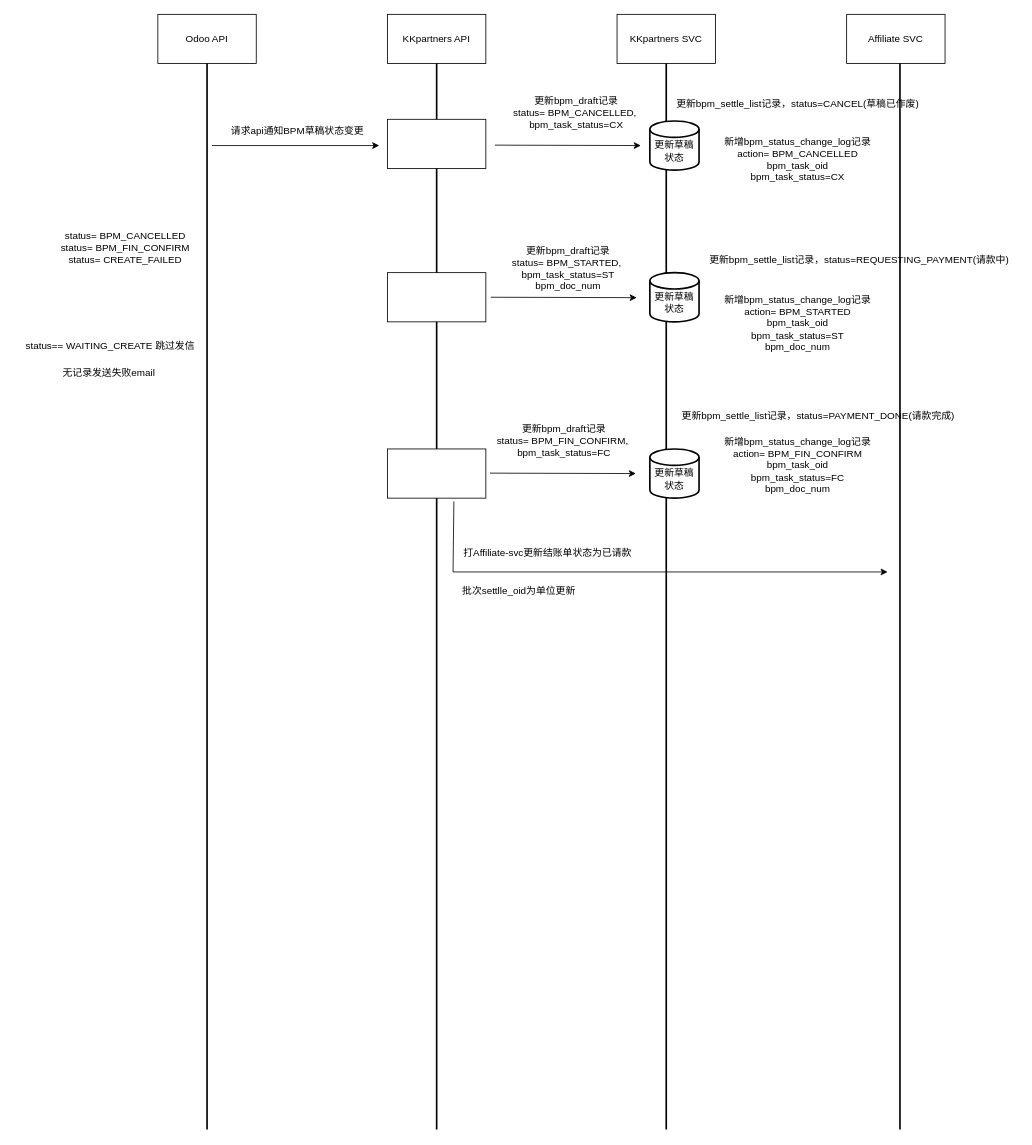
Some shapes in this 1032 by 1145 pixel diagram are drawn without their labels. The box of each missing label's shape, as (x1, y1, x2, y2) in pixels:
task_status=CX: (387, 118, 486, 169)
task_status=FC: (387, 448, 486, 498)
task_status=ST: (387, 272, 486, 322)
